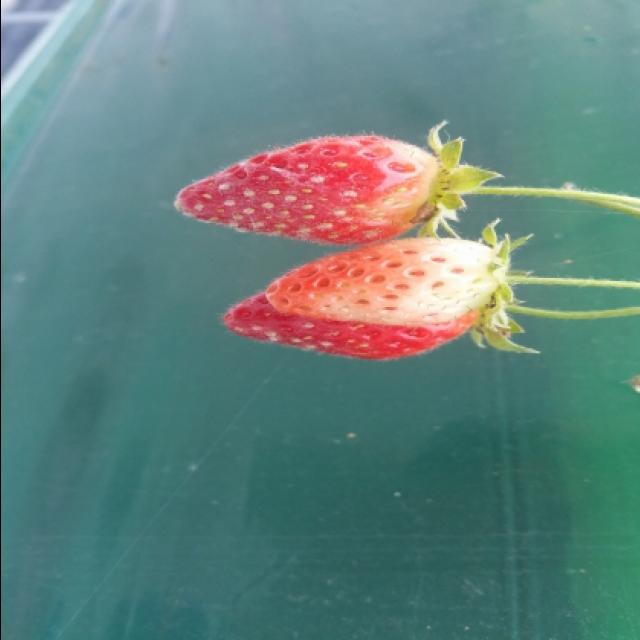Powdery Mildew Fruit: (221, 238, 497, 362), (172, 135, 440, 248)
